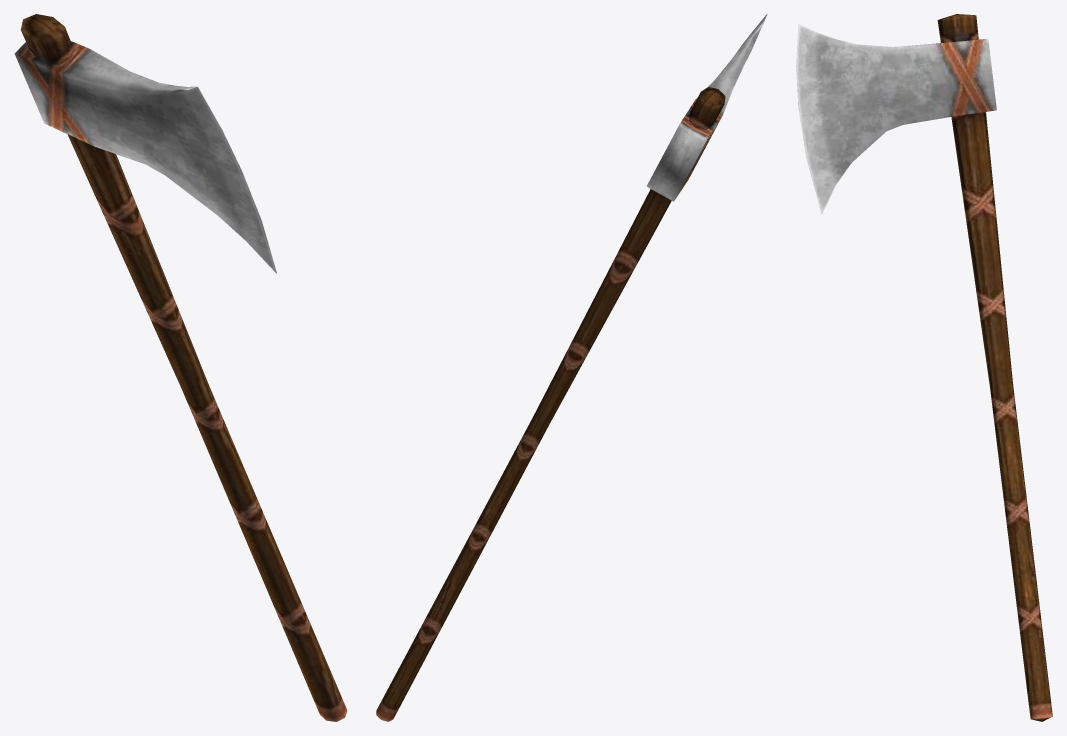
Rendered from weapon-female-copperweapons.glb.
3 renders of one model, left to right at view 1: azimuth 30°, elevation 25°; view 2: azimuth 150°, elevation 25°; view 3: azimuth 270°, elevation 25°, orthographic. The views are drawn at different scales.
Bounding box in the file's own units: 0.6911 × 1.47 × 0.5787.
Materials: 1 (1 with a texture image).
